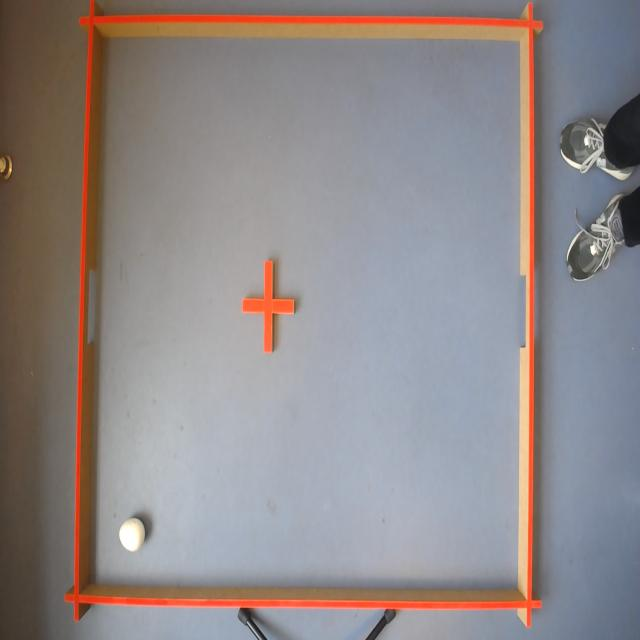cross: (241, 260, 296, 356)
egg: (118, 517, 146, 554)
